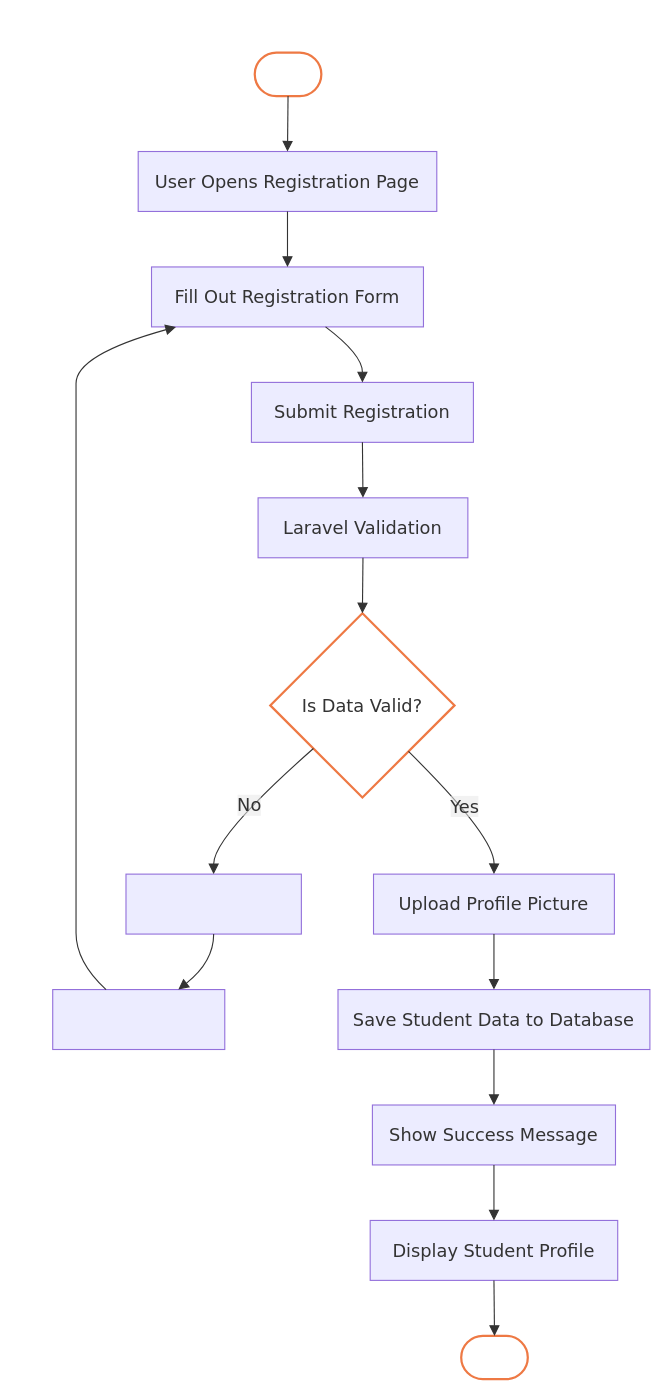
Some shapes in this 669 by 1399 pixel diagram are drawn without their labels. Each missing label, with the centre of its shape:
Back to Form: point 138,1019
Display Errors: point 213,903
End: point 494,1357
Start: point 287,74
